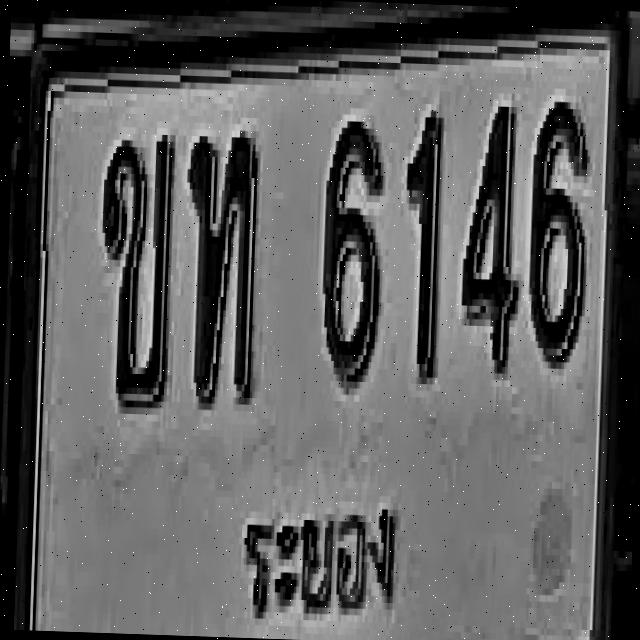1: (398, 106, 445, 381)
11KhorKhai: (95, 129, 176, 411)
32ThorThaHan: (180, 128, 262, 404)
4: (459, 99, 522, 374)
6: (320, 117, 384, 385), (526, 94, 590, 362)
Rayong: (229, 462, 402, 632)
